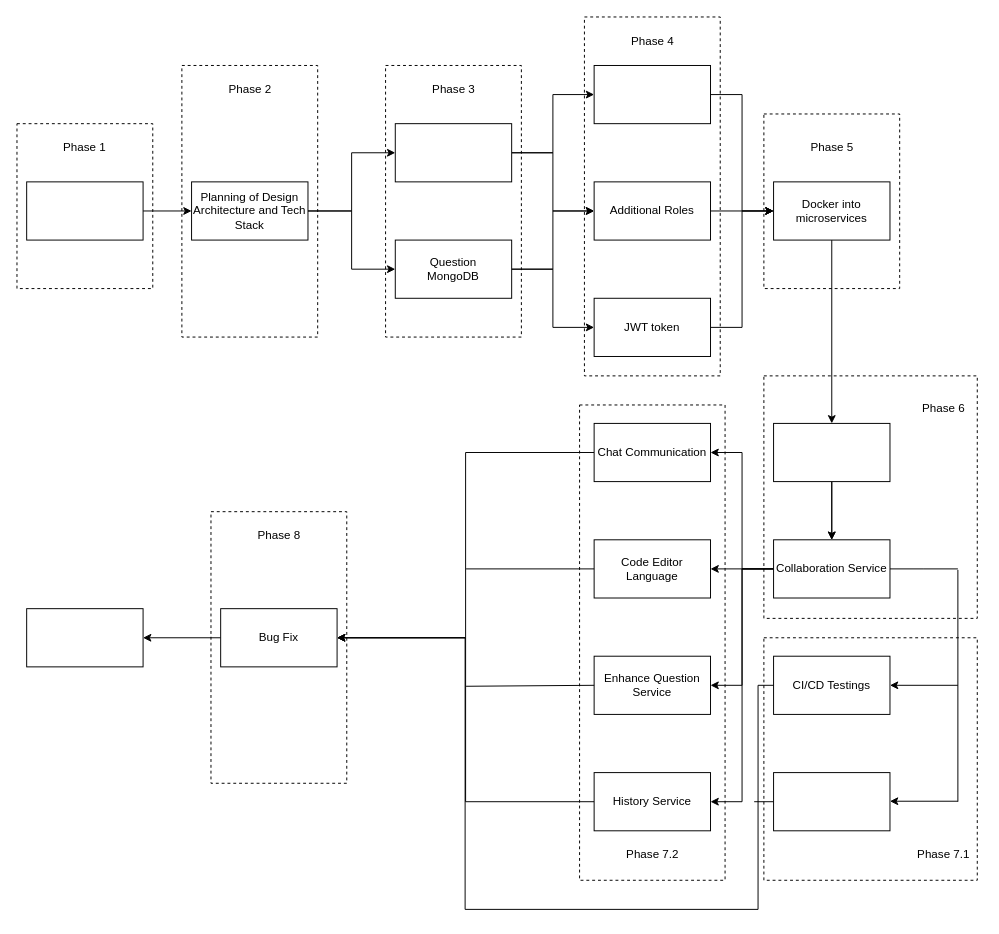
Some shapes in this 999 by 934 pixel diagram are drawn without their labels. The centre of each missing label's shape, as x and y in pixels:
"API gateway" goes at (x=831, y=801).
"End" goes at (x=84, y=637).
"Matching Service" goes at (x=831, y=452).
"OTP authentication" goes at (x=652, y=94).
"User Info Posgres" goes at (x=453, y=152).
"Web App UI Base" goes at (x=84, y=210).
